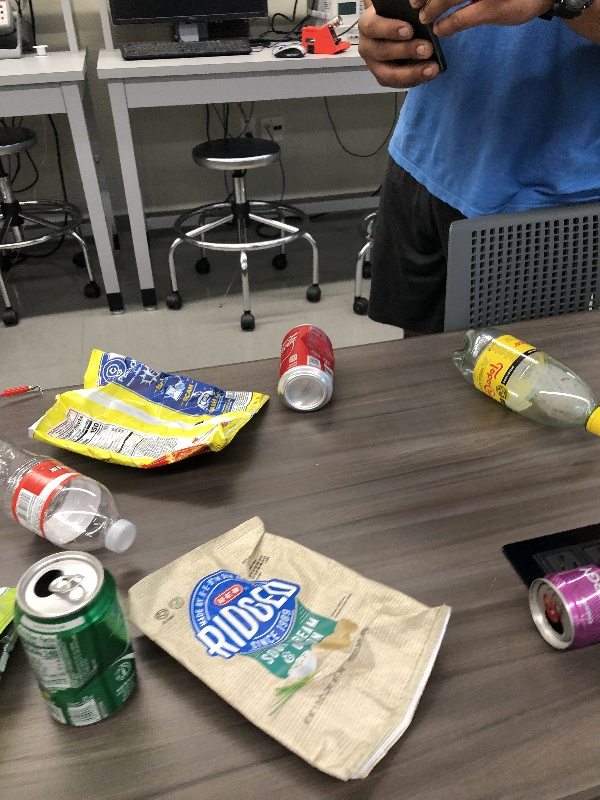bag: (124, 511, 455, 782), (23, 339, 280, 476)
bottle: (445, 325, 600, 445), (1, 423, 138, 556)
can: (10, 546, 154, 734), (524, 556, 600, 654), (274, 323, 336, 415)
